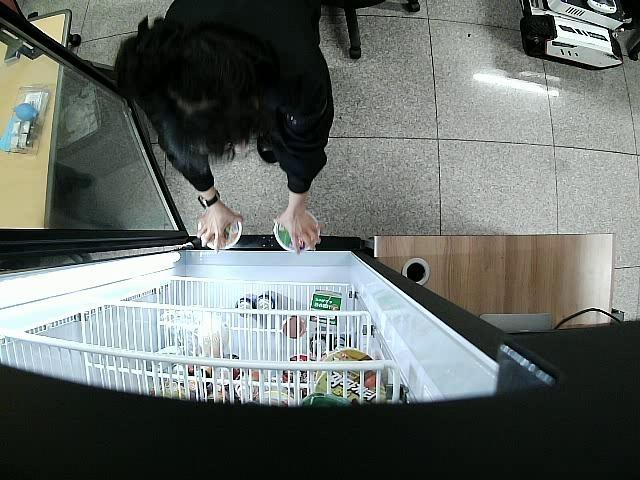09_yukGaeJang: (275, 210, 321, 253), (196, 216, 243, 252)
